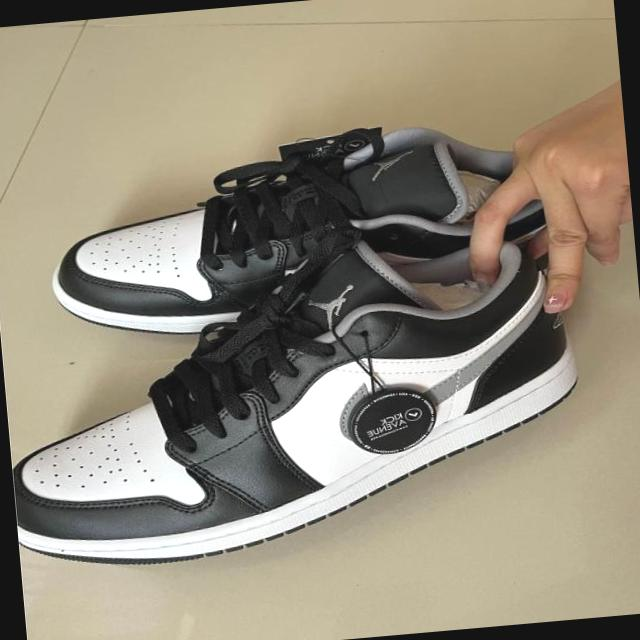nike_original_jordan: (0, 230, 603, 575), (38, 108, 566, 346)
